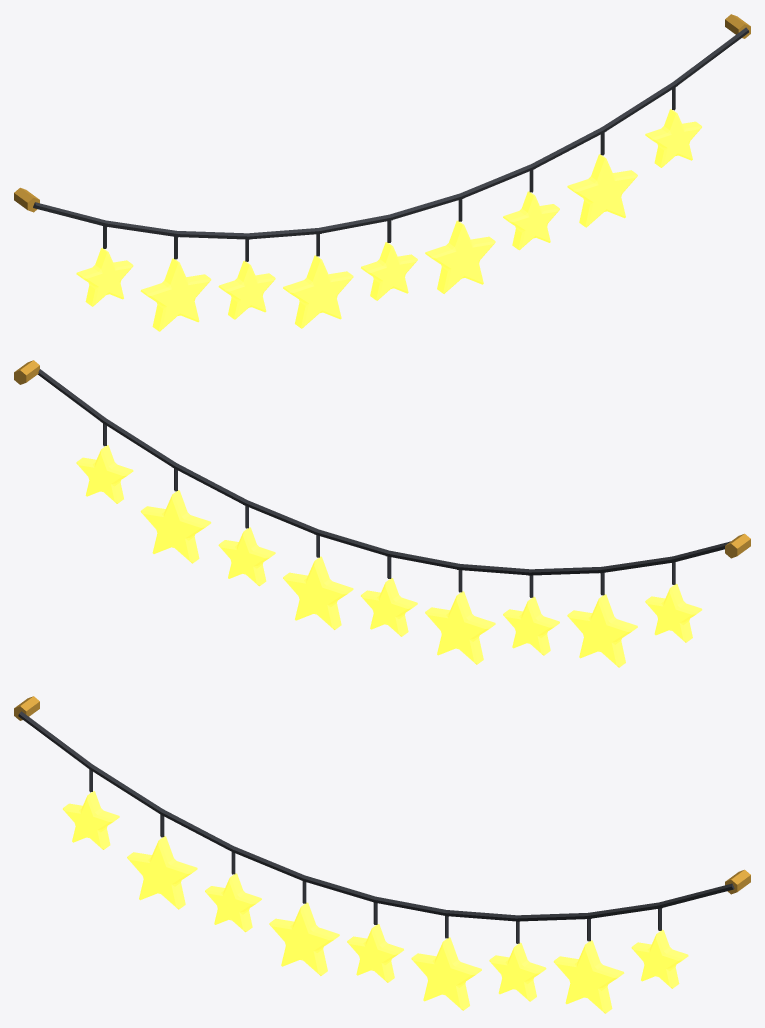
File: star_string_lights.glb
3 renders of one model, top to bottom at view 1: azimuth 30°, elevation 25°; view 2: azimuth 150°, elevation 25°; view 3: azimuth 330°, elevation 25°, orthographic.
Parts seen in each view (by area): view 1: star_string_lights; view 2: star_string_lights; view 3: star_string_lights.
Boxes of the visible parts, x1=… form: star_string_lights: x1=14, y1=14, x2=750, y2=331; star_string_lights: x1=14, y1=360, x2=750, y2=667; star_string_lights: x1=14, y1=696, x2=750, y2=1013.
Size of the model in its own units: 1.53 by 0.3906 by 0.065.
